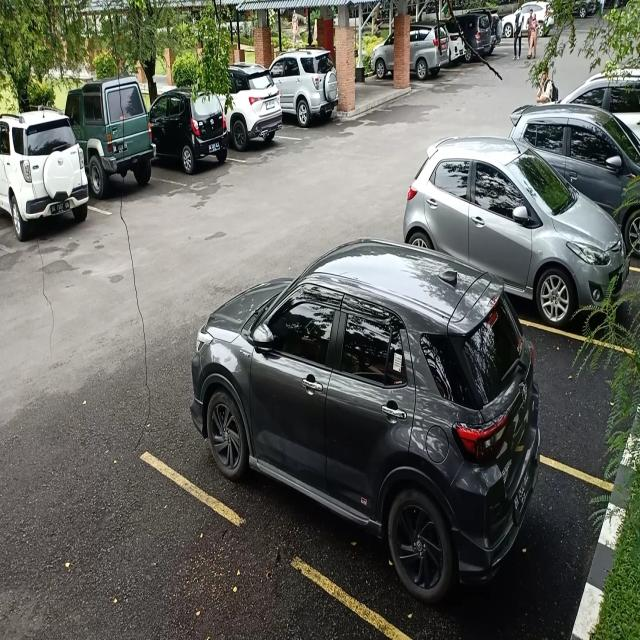occupied: (181, 353, 540, 607), (517, 184, 640, 346), (87, 96, 158, 220), (156, 100, 231, 192), (282, 49, 338, 144), (230, 83, 285, 164)
